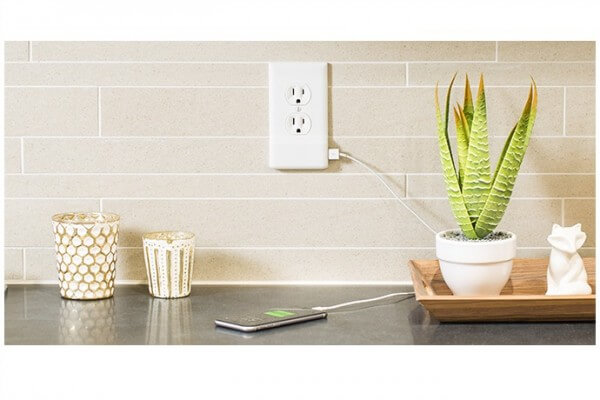outlet: (288, 85, 309, 107), (288, 115, 309, 134)
